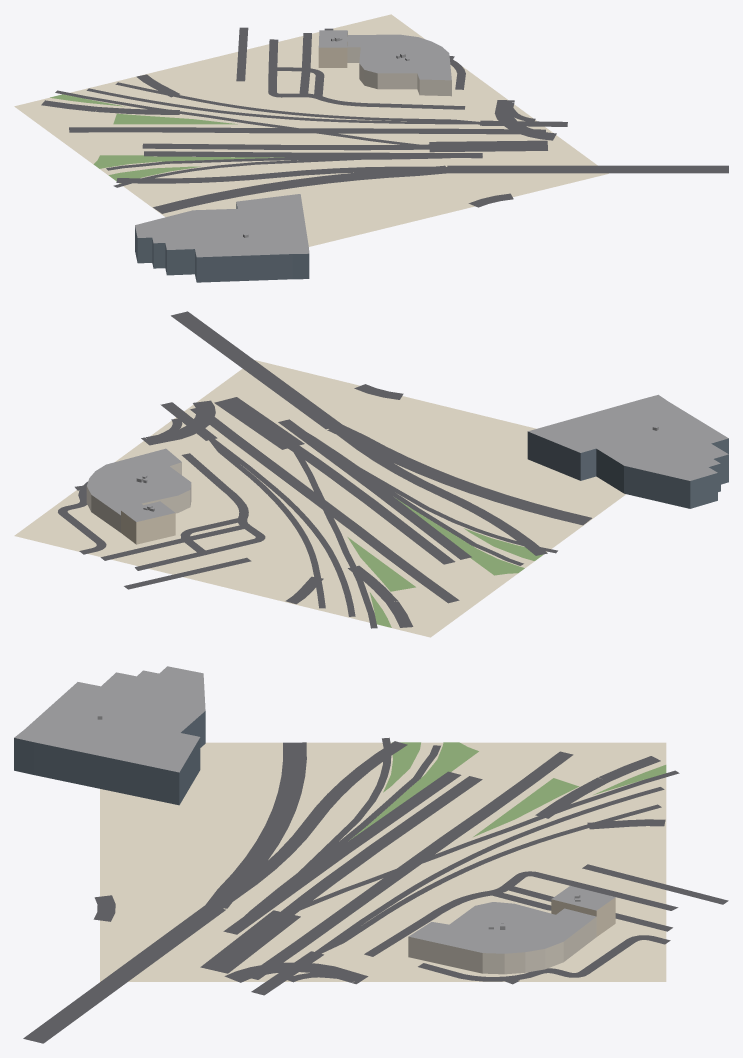
File: tile_-2_-2_far.glb
3 views of the same model, one above another, from view 1: azimuth 30°, elevation 25°; view 2: azimuth 150°, elevation 25°; view 3: azimuth 270°, elevation 25° (orthographic). The views are drawn at different scales.
Parts seen in each view (by area): view 1: nature_ground, roads_asphalt, buildings_roof, buildings_glass_dark, nature_grass, buildings_concrete_warm, buildings_sandstone; view 2: nature_ground, roads_asphalt, buildings_roof, buildings_glass_dark, nature_grass, buildings_sandstone, buildings_concrete_warm; view 3: nature_ground, roads_asphalt, buildings_roof, buildings_glass_dark, nature_grass, buildings_concrete_warm, buildings_sandstone.
Boxes of the visible parts, <box> form: nature_ground: <box>14,14,608,246</box>; roads_asphalt: <box>41,27,728,213</box>; buildings_roof: <box>135,30,451,257</box>; buildings_glass_dark: <box>135,202,309,282</box>; nature_grass: <box>50,94,284,183</box>; buildings_concrete_warm: <box>347,47,451,96</box>; buildings_sandstone: <box>318,32,347,67</box>; nature_ground: <box>14,360,625,637</box>; roads_asphalt: <box>58,311,591,628</box>; buildings_roof: <box>87,394,728,521</box>; buildings_glass_dark: <box>527,431,728,508</box>; nature_grass: <box>347,498,546,627</box>; buildings_sandstone: <box>121,511,175,544</box>; buildings_concrete_warm: <box>86,462,191,532</box>; nature_ground: <box>100,742,666,981</box>; roads_asphalt: <box>23,737,728,1043</box>; buildings_roof: <box>14,666,615,953</box>; buildings_glass_dark: <box>14,711,205,805</box>; nature_grass: <box>349,742,666,840</box>; buildings_concrete_warm: <box>408,917,596,974</box>; buildings_sandstone: <box>551,897,615,936</box>.
Size of the model in its own units: 360 by 17.71 by 316.
